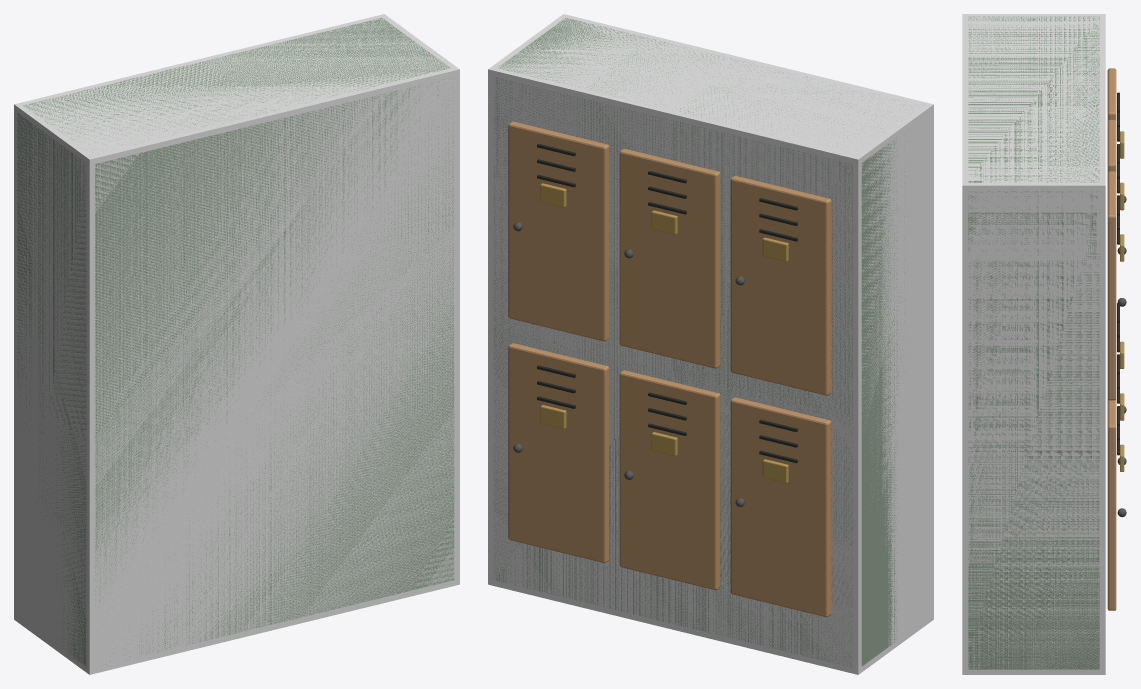
File: premium.glb
3 renders of one model, left to right at view 1: azimuth 30°, elevation 25°; view 2: azimuth 150°, elevation 25°; view 3: azimuth 270°, elevation 25°, orthographic. The views are drawn at different scales.
Parts seen in each view (by area): view 1: COL_LOCKER_UNITS_PREMIUM, Lockers_Carcass.002; view 2: COL_LOCKER_UNITS_PREMIUM, Lockers_Carcass.002, Locker_Door_1_0, Locker_Door_0_0.002, Locker_Door_0_1.002, Locker_Door_1_1, Locker_Door_1_2, Locker_Door_0_2.001; view 3: COL_LOCKER_UNITS_PREMIUM, Lockers_Carcass.002, Locker_Door_1_2, Locker_Door_0_2.001, Locker_Door_1_0, Locker_Door_1_1.
Boxes of the visible parts, x1,y1,x2,y2 form: COL_LOCKER_UNITS_PREMIUM: (14,14,459,674); Lockers_Carcass.002: (17,18,454,666); COL_LOCKER_UNITS_PREMIUM: (488,14,933,674); Lockers_Carcass.002: (493,18,909,667); Locker_Door_1_0: (730,175,831,395); Locker_Door_0_0.002: (730,397,831,617); Locker_Door_0_1.002: (619,370,720,589); Locker_Door_1_1: (619,148,720,368); Locker_Door_1_2: (508,121,609,341); Locker_Door_0_2.001: (508,343,609,562); COL_LOCKER_UNITS_PREMIUM: (962,14,1105,674); Lockers_Carcass.002: (968,16,1099,669); Locker_Door_1_2: (1107,171,1116,400); Locker_Door_0_2.001: (1107,399,1116,610); Locker_Door_1_0: (1107,68,1116,120); Locker_Door_1_1: (1107,120,1116,172).
Bounding box in the file's own units: 1.62 × 2.15 × 0.655.
